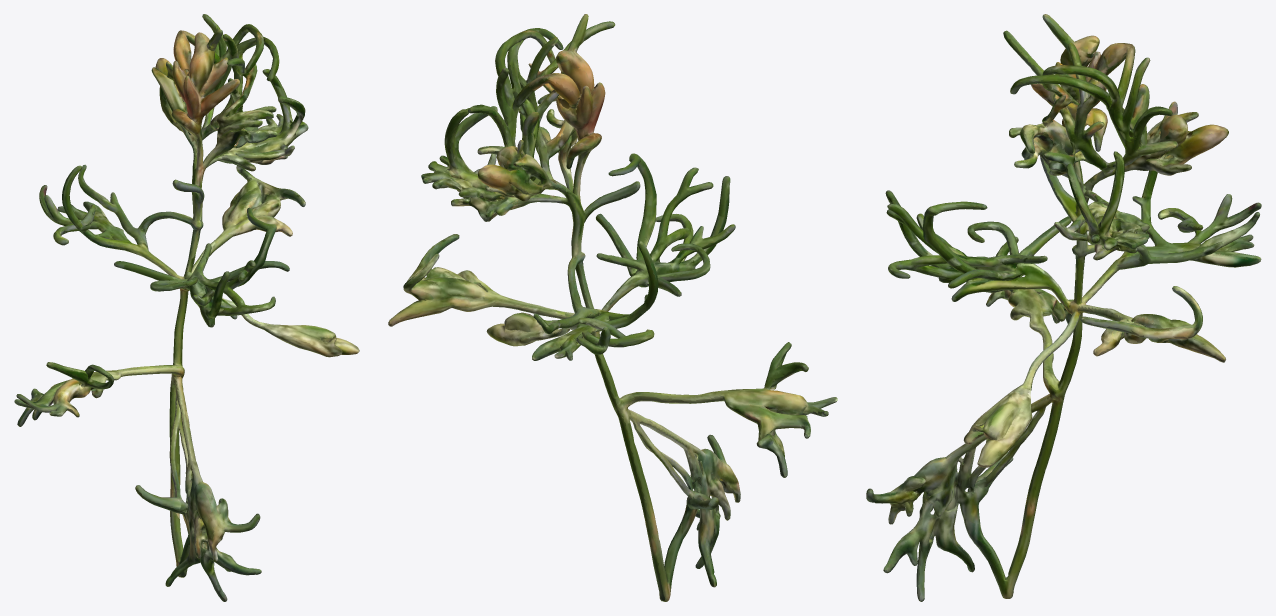
Rendered from ribbon-grass-v10.glb.
3 renders of one model, left to right at view 1: azimuth 30°, elevation 25°; view 2: azimuth 150°, elevation 25°; view 3: azimuth 270°, elevation 25°, orthographic. The views are drawn at different scales.
Visible parts, largest first — view 1: geometry_0; view 2: geometry_0; view 3: geometry_0.
Part boxes in pixels (x1,y1,x2,y2): geometry_0: (14, 14, 359, 601); geometry_0: (388, 14, 837, 601); geometry_0: (866, 14, 1261, 601).
Size of the model in its own units: 0.2267 by 0.35 by 0.204.
Materials: 1 (1 with a texture image).
